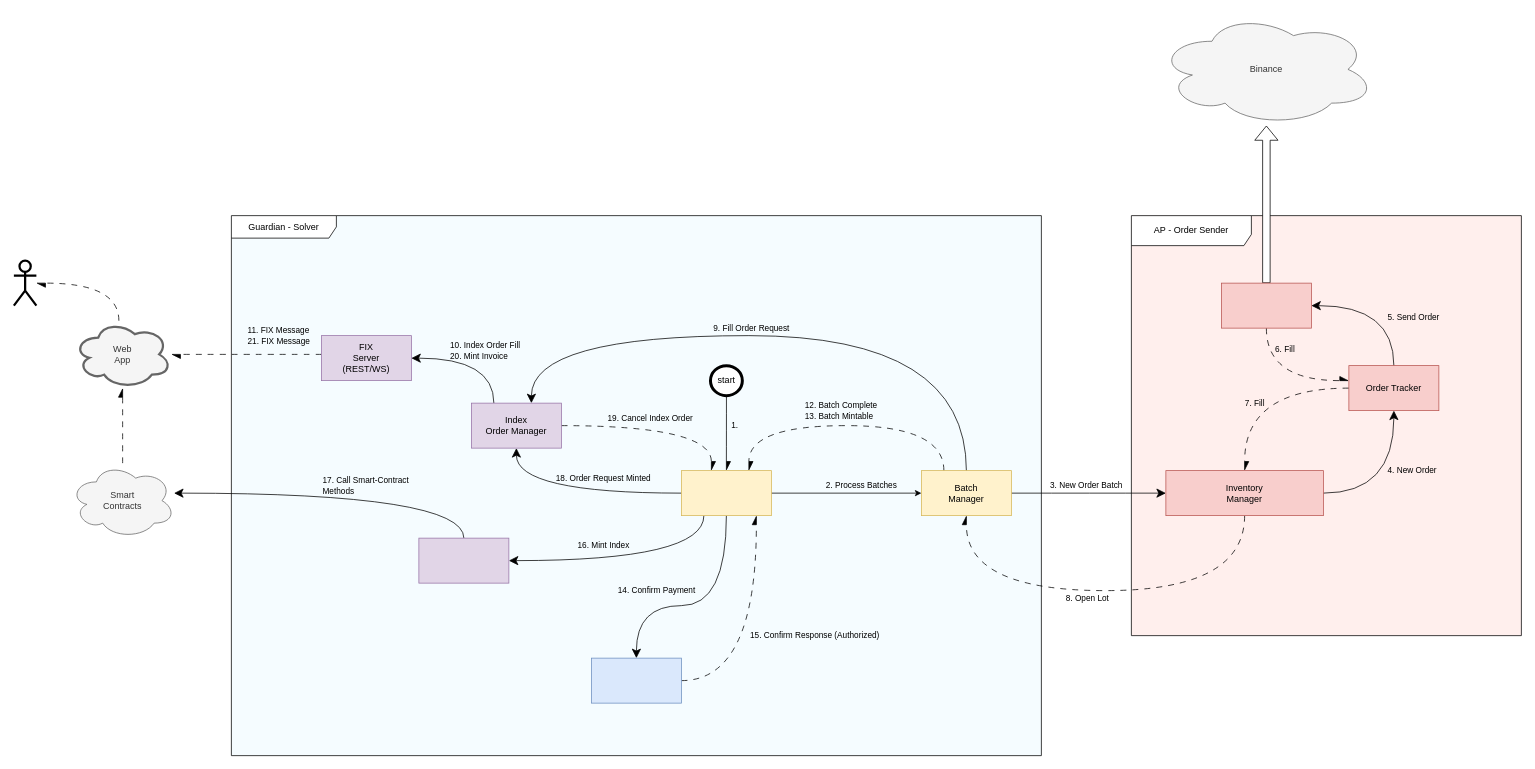
This 1535x769 diagram has some shape labels left out. The shapes that lost their labels are listed below. From the top down, each one's centre as x and y in pixels, then its label:
At point (24, 282): "User".
At point (1266, 305): "Binance Order Connector".
At point (726, 493): "Solver".
At point (463, 560): "EVM Connector".
At point (636, 680): "CollateralManager".
